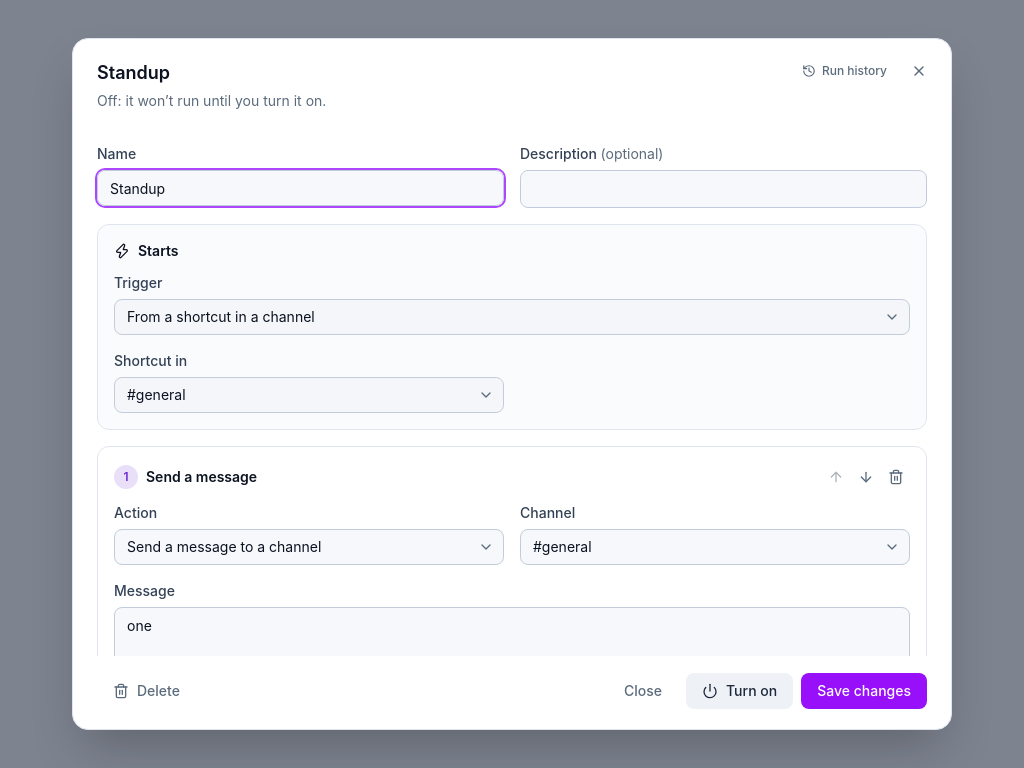
Test: WorkflowEditor › asks an update step for a new item once the step that added its item is removed
The width and height of the screenshot is (1024, 768).
Click the button with test id "workflow-step-down" at (866, 477), box [852,463,880,491]
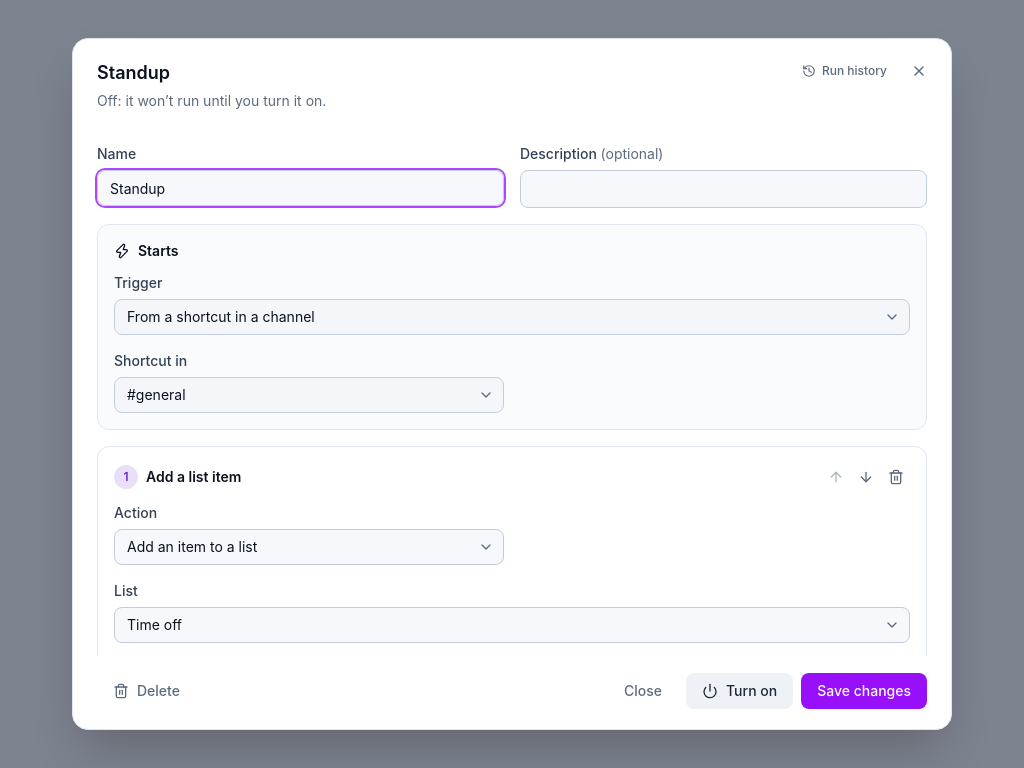
Click the button with test id "workflow-step-remove" at (896, 477), box [882,463,910,491]
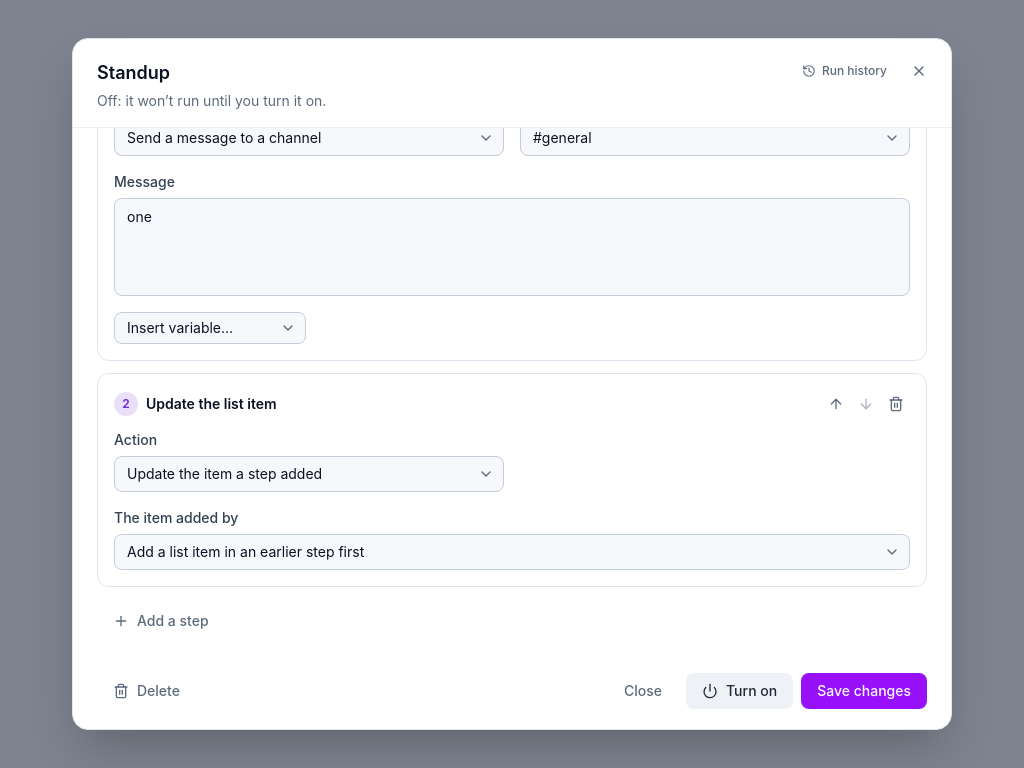
Expected: the dropdown with test id "workflow-step-from" shows "Add a list item in an earlier step first", [114,534,910,570]
